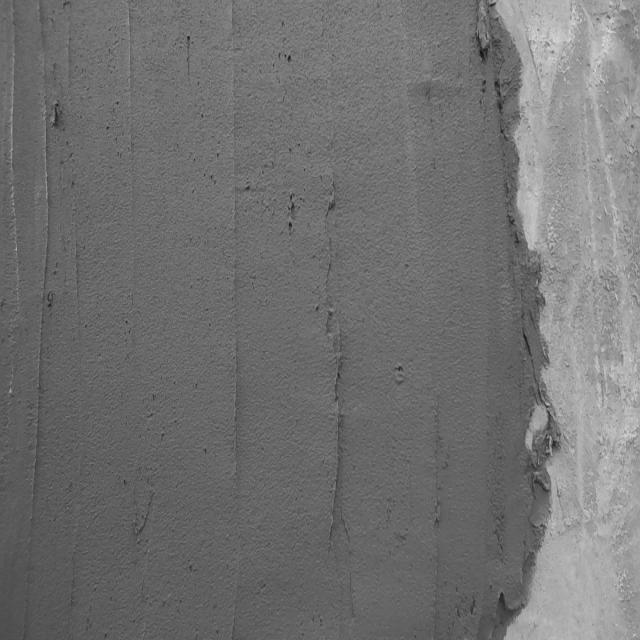trowels marks: (28, 0, 54, 623), (320, 186, 348, 573), (227, 7, 242, 533), (428, 408, 447, 626)
